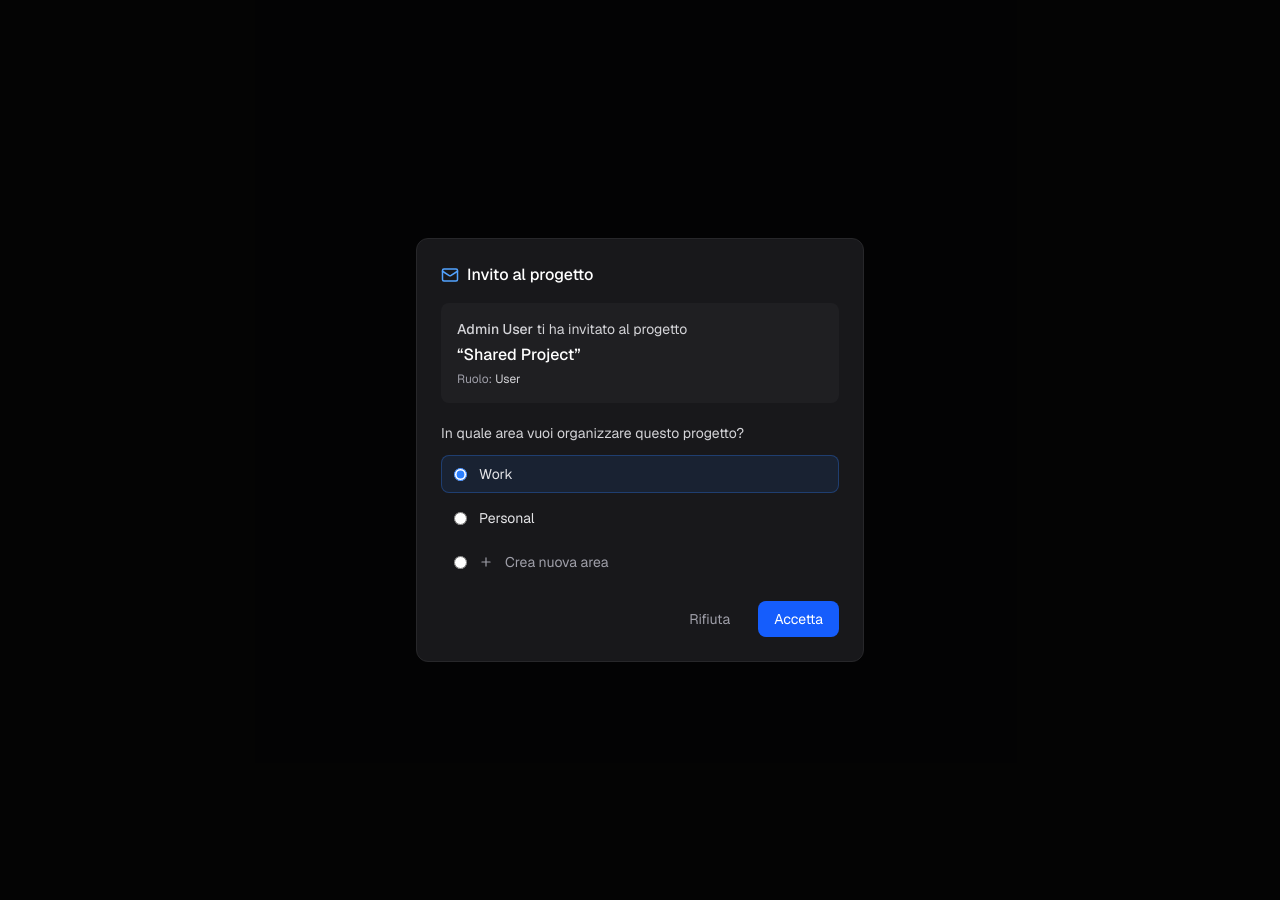
it: AcceptInvitationDialog › decline can be cancelled
Click the button "Rifiuta": {"x": 710, "y": 619} [673, 601, 746, 637]
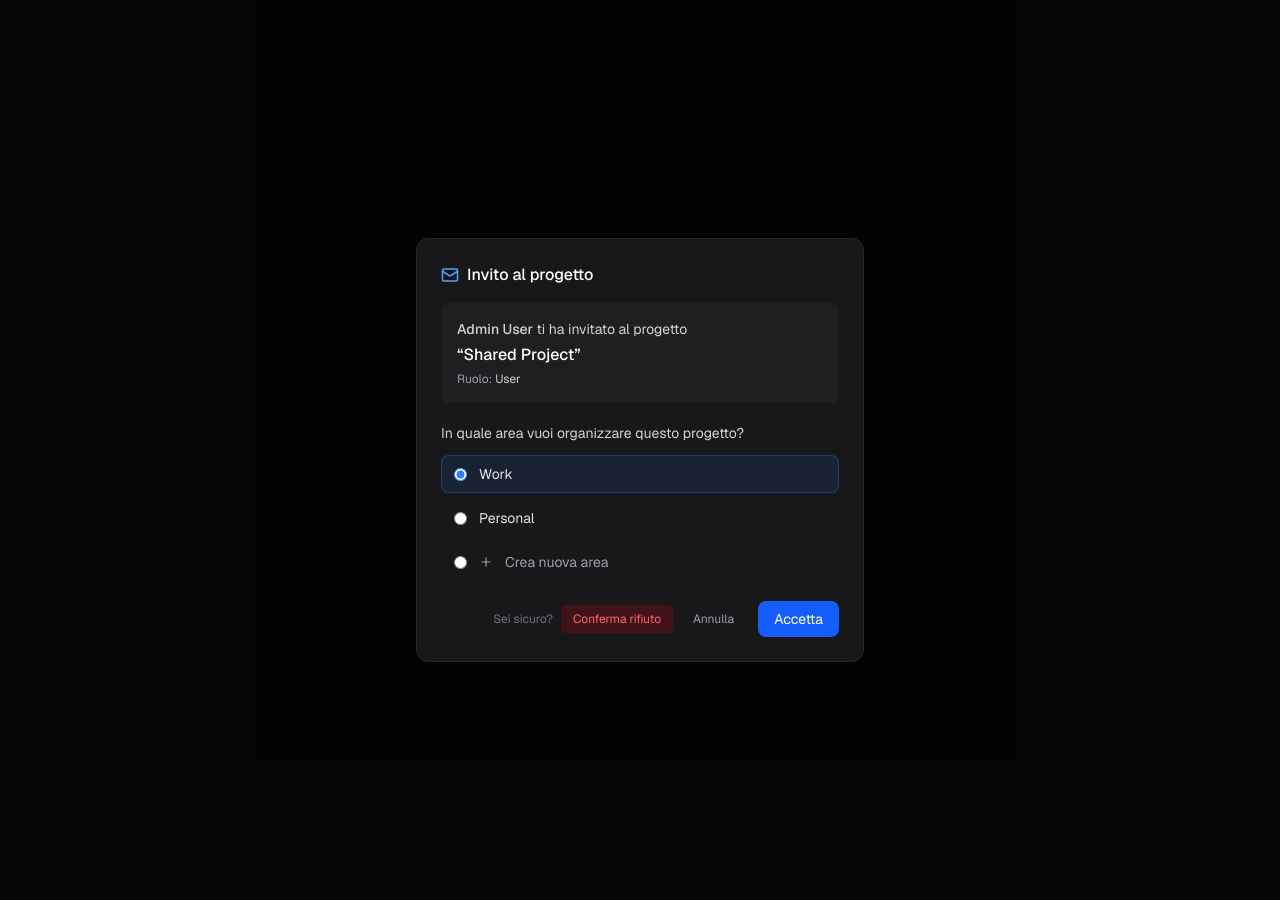
Click the button "Annulla": {"x": 714, "y": 619} [681, 605, 746, 633]
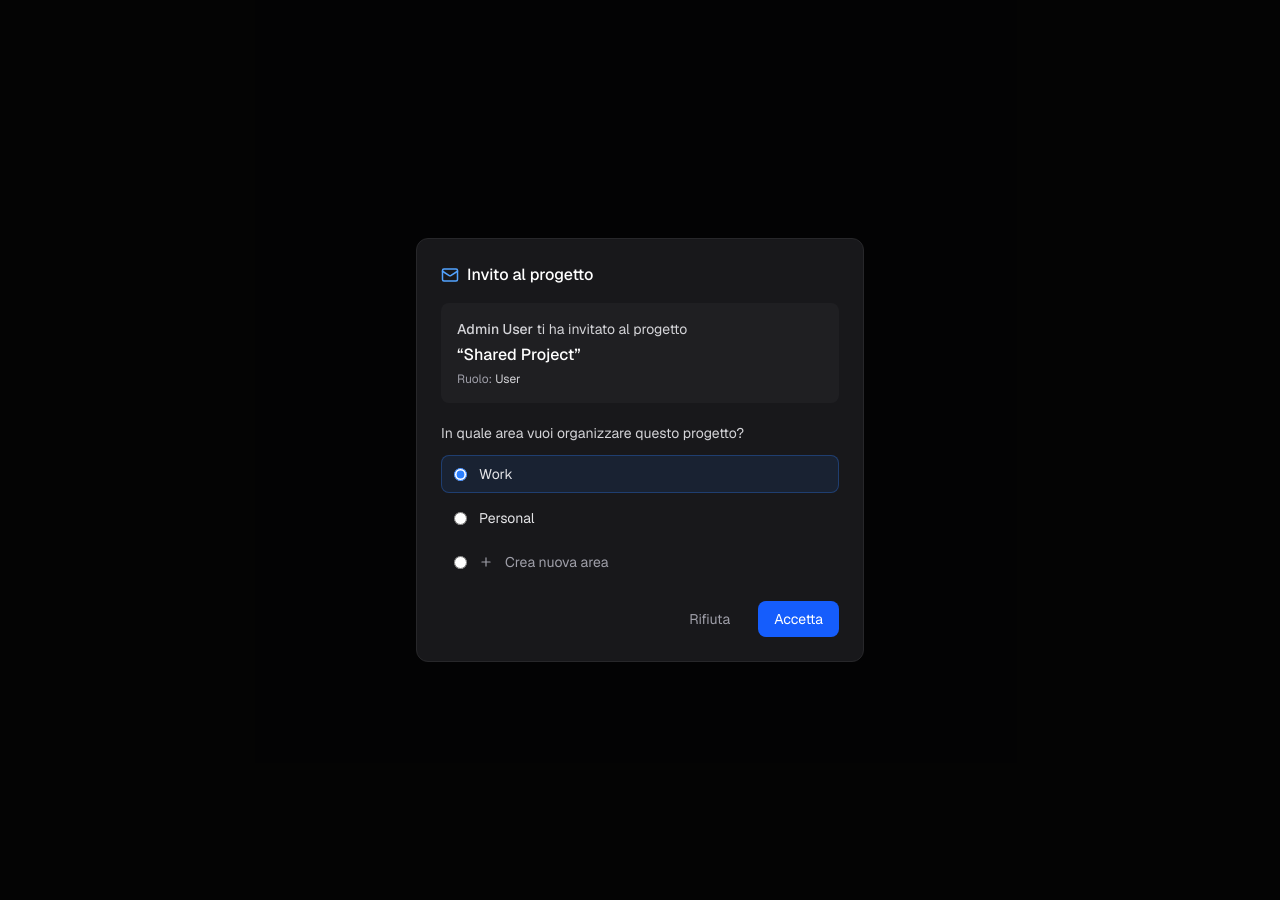
Expected: the button "Rifiuta" is shown, [673, 601, 746, 637]
